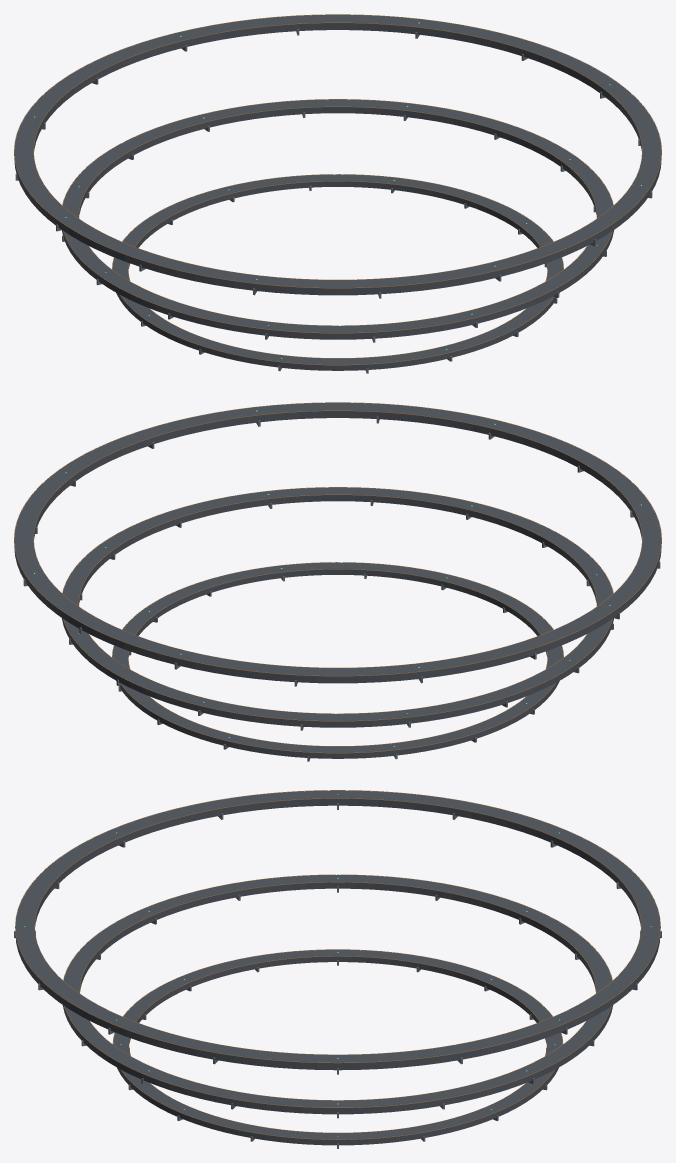
Rendered from 05_orbital_viaducts.glb.
3 renders of one model, top to bottom at view 1: azimuth 30°, elevation 25°; view 2: azimuth 150°, elevation 25°; view 3: azimuth 270°, elevation 25°, orthographic.
Parts seen in each view (by area): view 1: Orbital_Viaducts_MAT_Gunmetal_Brushed, Orbital_Viaducts_MAT_Amber_Energy_Restrained, Orbital_Viaducts_MAT_Titanium_Machined; view 2: Orbital_Viaducts_MAT_Gunmetal_Brushed, Orbital_Viaducts_MAT_Amber_Energy_Restrained, Orbital_Viaducts_MAT_Titanium_Machined; view 3: Orbital_Viaducts_MAT_Gunmetal_Brushed, Orbital_Viaducts_MAT_Amber_Energy_Restrained, Orbital_Viaducts_MAT_Titanium_Machined.
Boxes of the visible parts, x1=… form: Orbital_Viaducts_MAT_Gunmetal_Brushed: x1=14, y1=14, x2=661, y2=370; Orbital_Viaducts_MAT_Amber_Energy_Restrained: x1=14, y1=14, x2=661, y2=365; Orbital_Viaducts_MAT_Titanium_Machined: x1=15, y1=28, x2=660, y2=373; Orbital_Viaducts_MAT_Gunmetal_Brushed: x1=14, y1=402, x2=661, y2=758; Orbital_Viaducts_MAT_Amber_Energy_Restrained: x1=14, y1=402, x2=661, y2=753; Orbital_Viaducts_MAT_Titanium_Machined: x1=15, y1=416, x2=660, y2=761; Orbital_Viaducts_MAT_Gunmetal_Brushed: x1=15, y1=790, x2=660, y2=1145; Orbital_Viaducts_MAT_Amber_Energy_Restrained: x1=15, y1=790, x2=660, y2=1139; Orbital_Viaducts_MAT_Titanium_Machined: x1=14, y1=803, x2=661, y2=1148.
Bounding box in the file's own units: 155 × 33.59 × 155.
